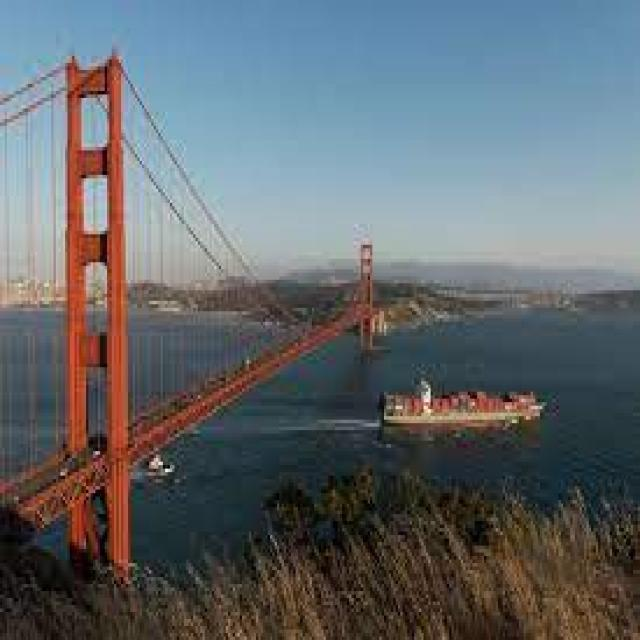Bridges: (4, 28, 394, 610)
